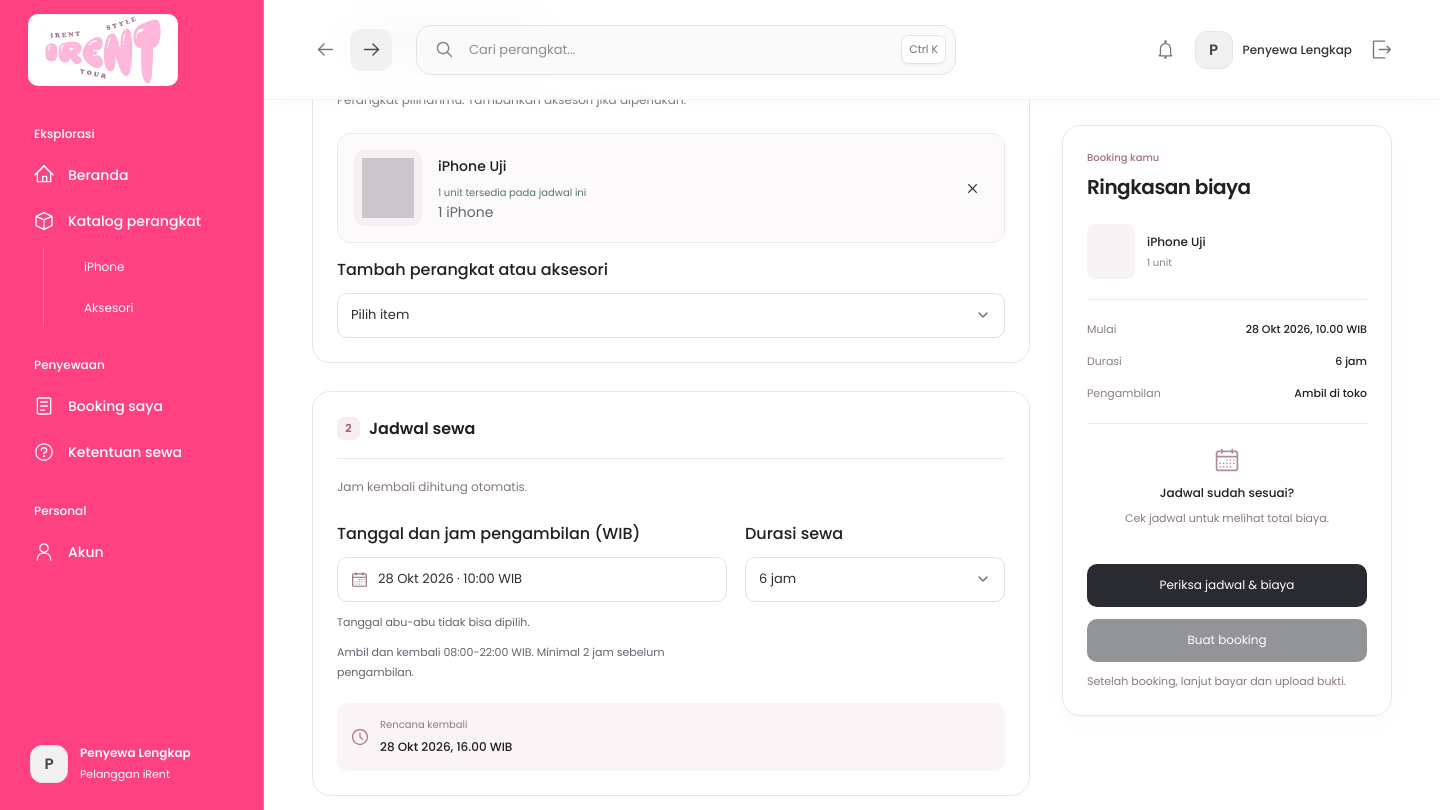
Scenario: checks price and availability then retries booking with the same action key
(page scrolled)
Click the button "Periksa jadwal & biaya": (1227, 585) [1087,564,1367,606]
(page scrolled)
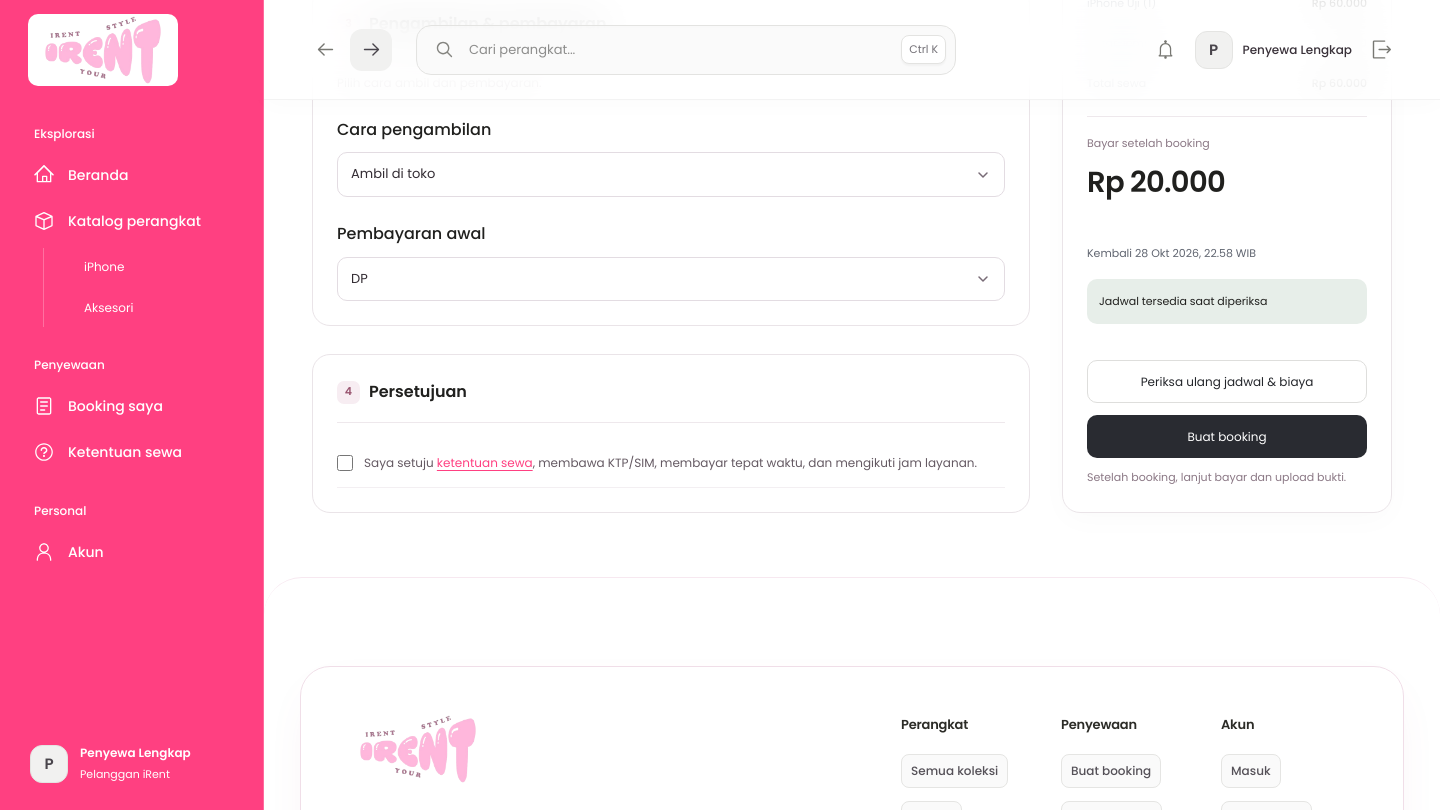
Check: the text "Jadwal tersedia saat diperiksa" is shown, box [1087,279,1367,324]
Click the checkbox labelled "Saya setuju ketentuan sewa": (345, 463) [337,455,353,471]
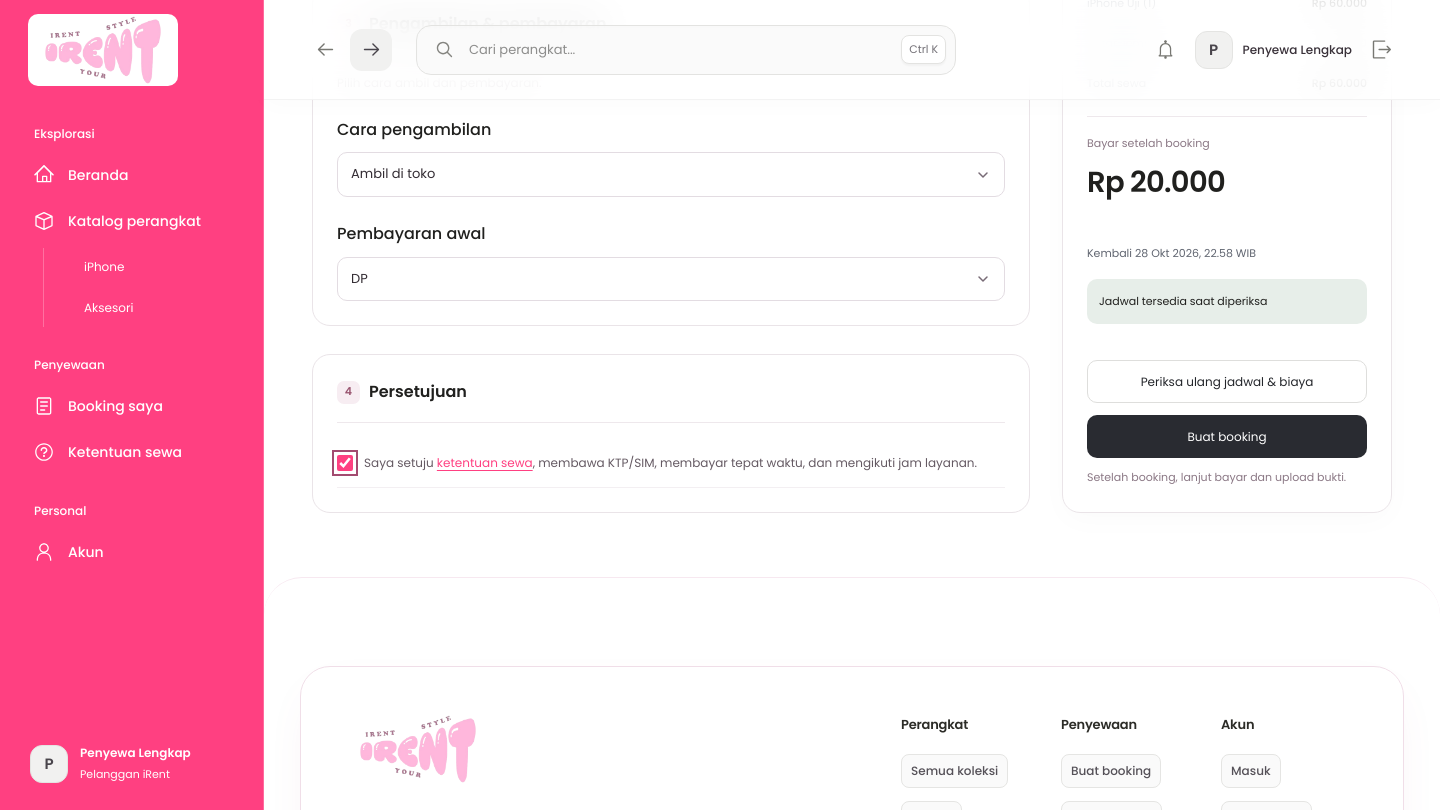
Click the button "Buat booking": (1227, 436) [1087,415,1367,458]
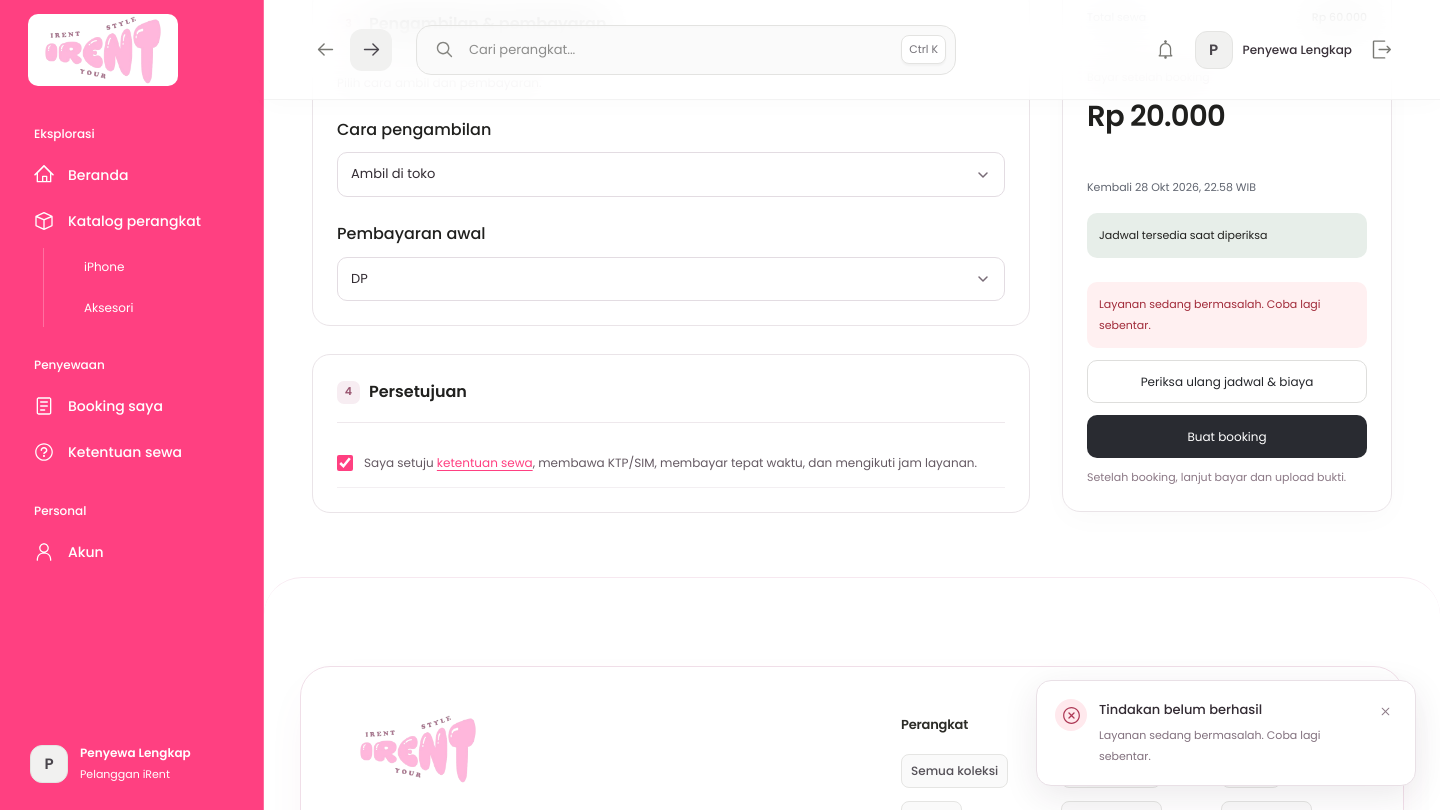
Click the button "Buat booking": (1227, 436) [1087,415,1367,458]
(page scrolled)
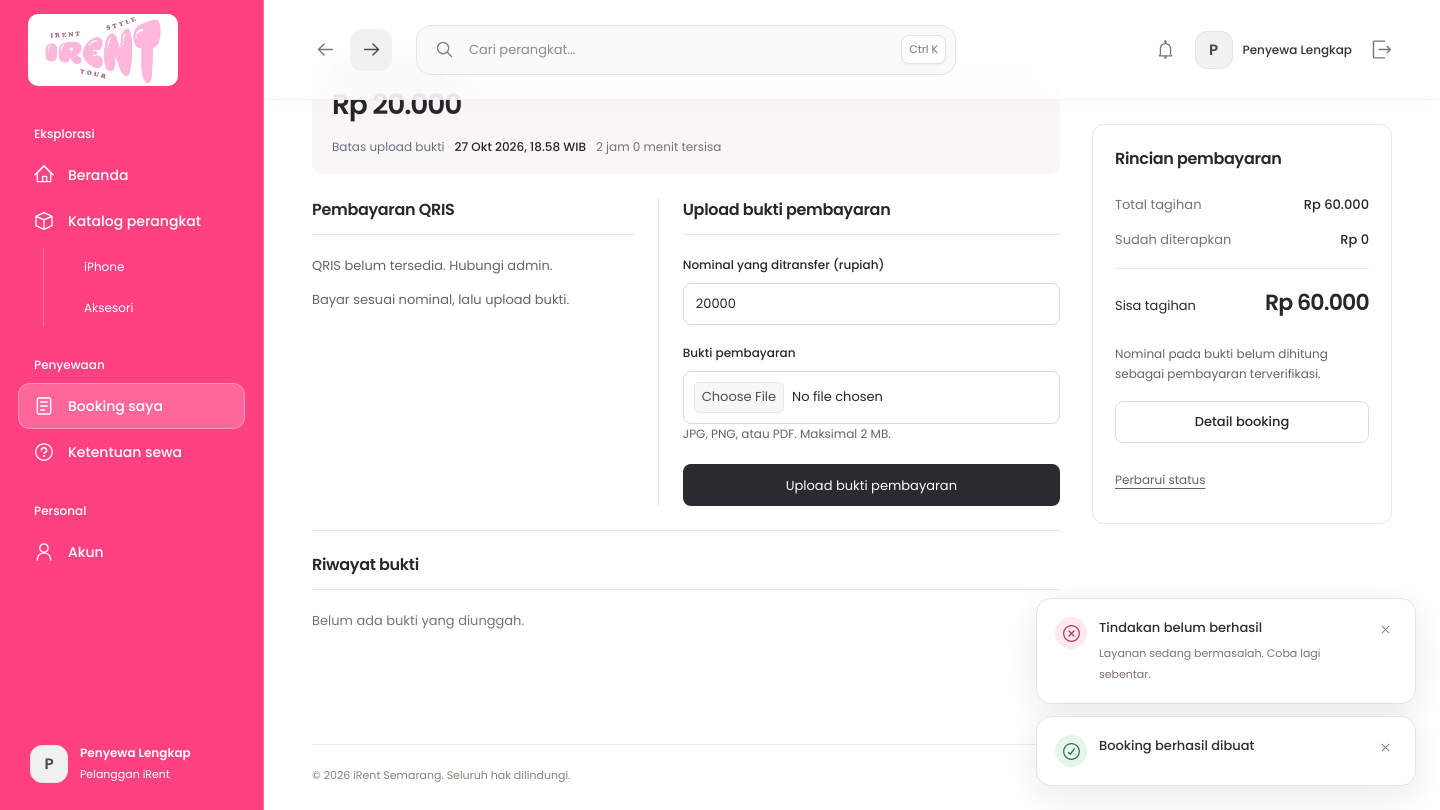
Check: the button "Upload bukti pembayaran" is enabled, box [683,464,1060,506]
